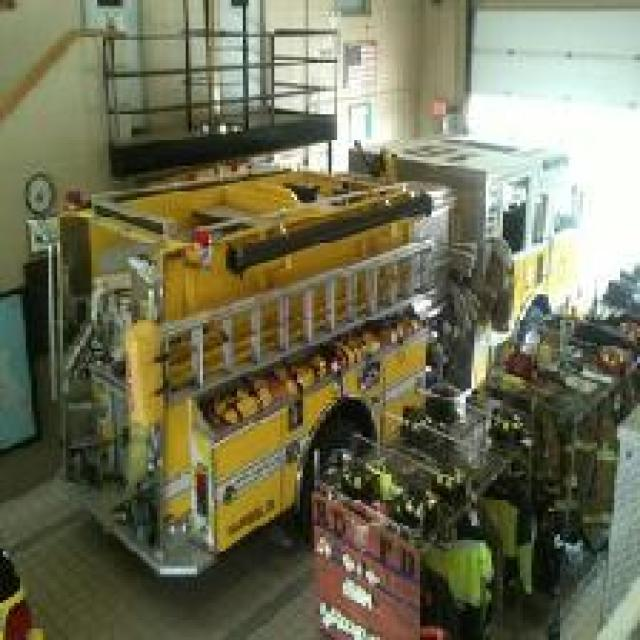Fire-truck: (29, 97, 578, 638)
